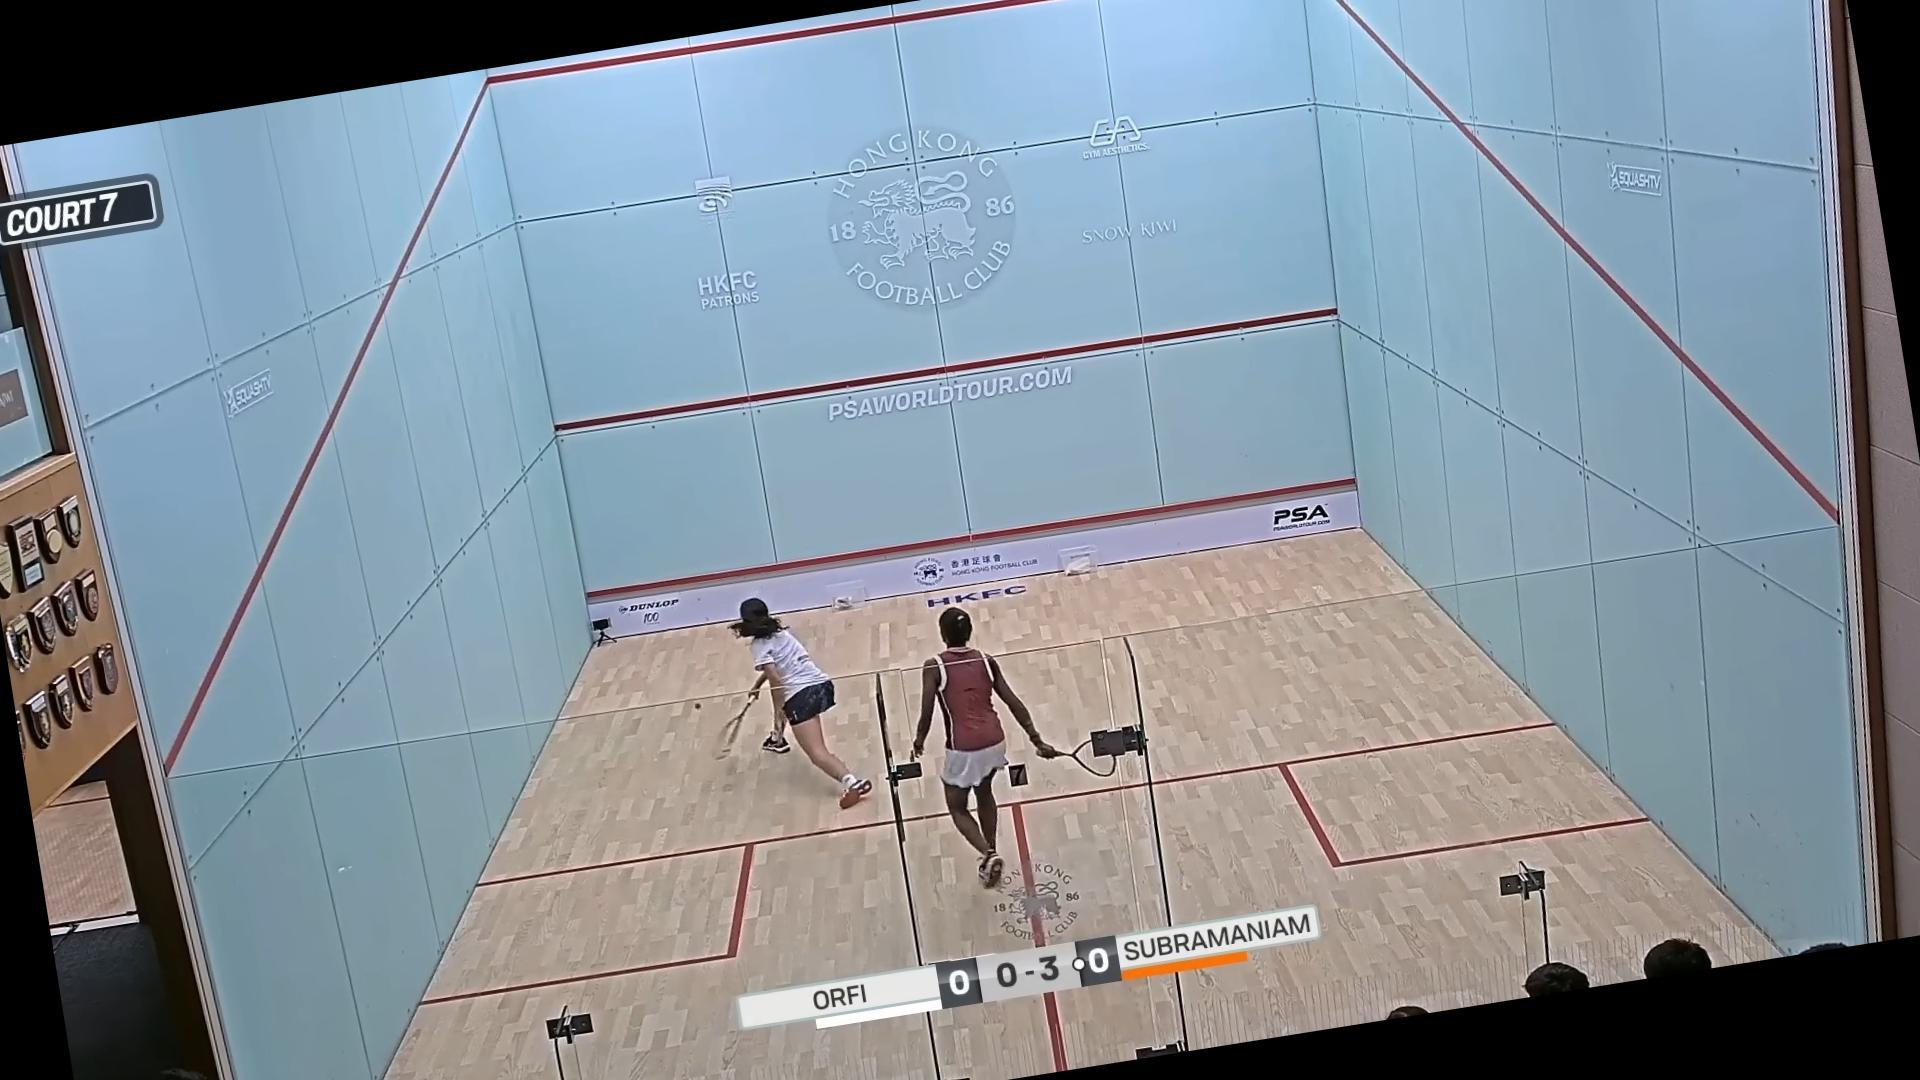Squash-Ball: (680, 690, 715, 723)
